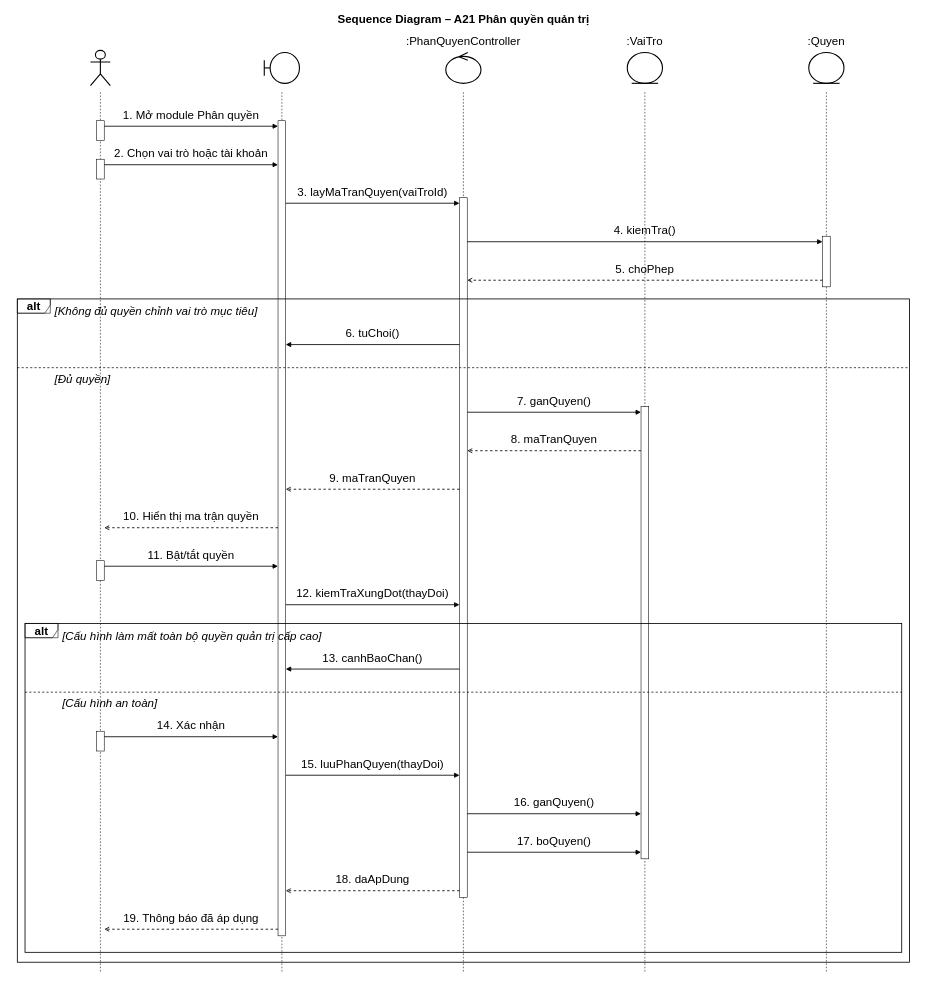
Image size: 926x983. Some labels were removed from this diagram. The box of each missing label's shape, as (x1, y1, x2, y2) in pixels:
:PhanQuyenPage: (263, 52, 300, 84)
:Quản trị viên: (90, 50, 111, 86)
